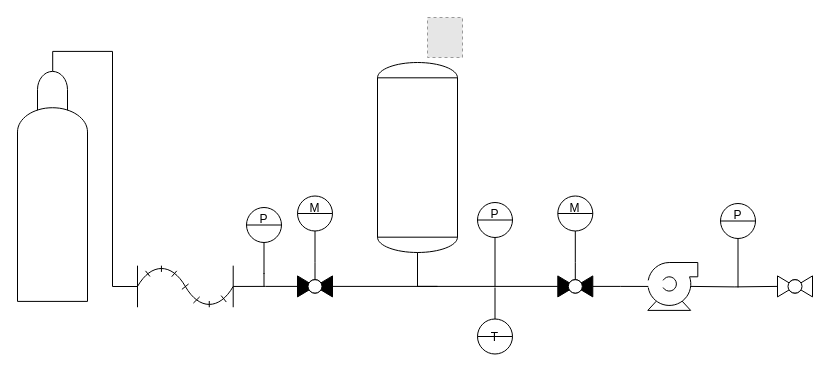
Image size: 830x372. Some labels were removed from this diagram. Grey dashed boxes stand in for pictures. The shapes that lost their labels are listed below. From the top down, each one's centre as x and y in pixels, then its label:
the point at 417,157: Main Tank 20 bar
the point at 52,185: N2
